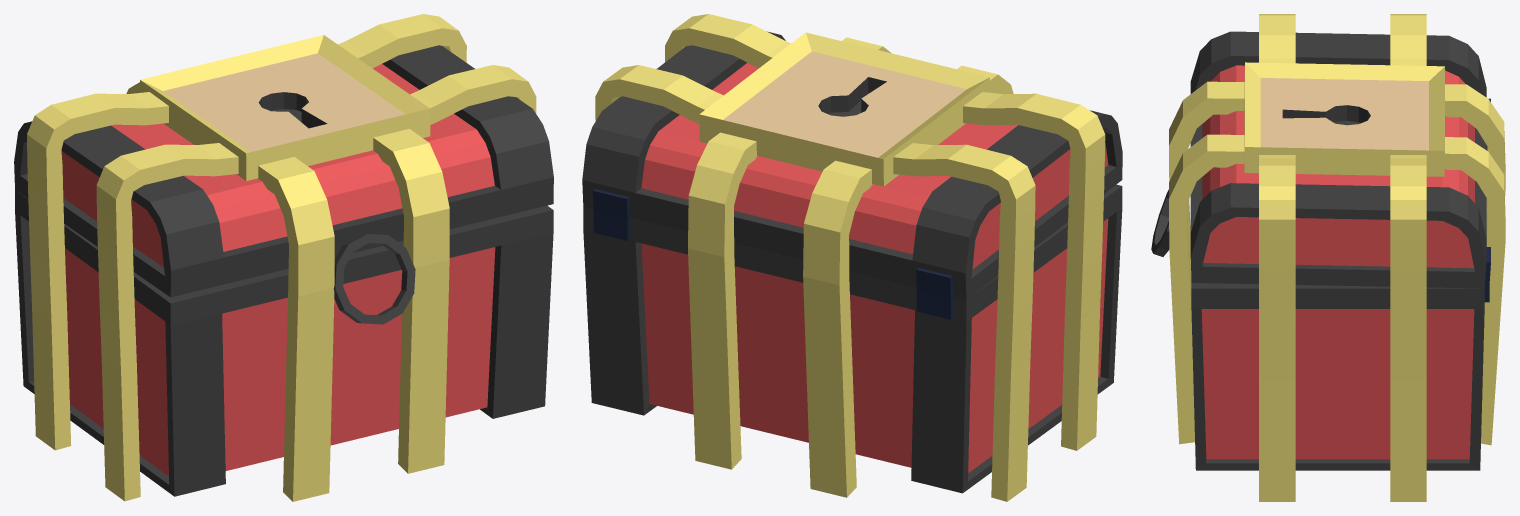
File: treasure_chest_closed.fbx
The picture shows the model from 3 angles, left to right: view 1: azimuth 30°, elevation 25°; view 2: azimuth 150°, elevation 25°; view 3: azimuth 270°, elevation 25°; orthographic projection. The views are drawn at different scales.
Visible parts, largest first — view 1: Mesh; view 2: Mesh; view 3: Mesh.
Part boxes in pixels (x1,y1,x2,y2): Mesh: (14,14,553,501); Mesh: (582,14,1122,501); Mesh: (1151,14,1505,501).
Bounding box in the file's own units: 1.03 × 0.7697 × 0.7972.
